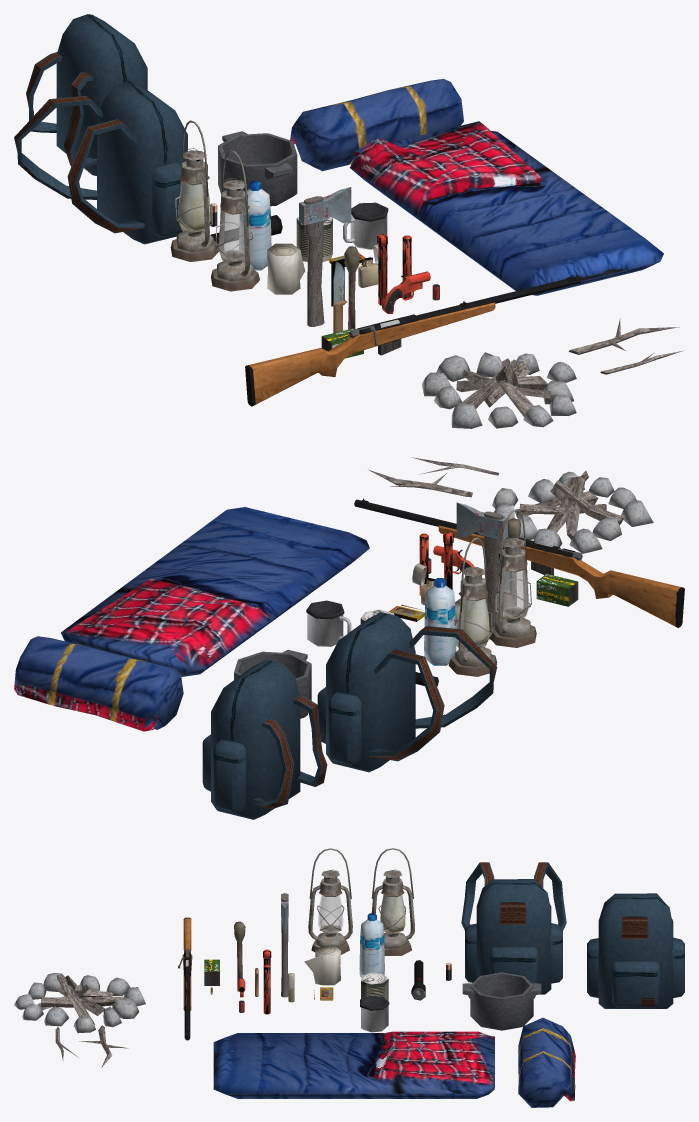
3 views of the same model, one above another, from view 1: azimuth 30°, elevation 25°; view 2: azimuth 150°, elevation 25°; view 3: azimuth 270°, elevation 25° (orthographic). The views are drawn at different scales.
Visible parts, largest first — view 1: sleeping_bag, Backpack, sleeping_bag_01, Backpack.001, bonfire, hunting_rifle, Casserole, Farol, Axe, Farol_G, Water, band (+7 smaller); view 2: sleeping_bag, Backpack, Backpack.001, sleeping_bag_01, bonfire, hunting_rifle, Farol, Farol_G, Axe, Water, Cup, Casserole (+3 smaller); view 3: sleeping_bag, Backpack, Backpack.001, bonfire, sleeping_bag_01, Casserole, Farol, Farol_G, Water, band, hunting_rifle, Cup (+6 smaller).
Boxes of the visible parts, <box> form: sleeping_bag: <box>350,121,663,295</box>; Backpack: <box>14,81,187,244</box>; sleeping_bag_01: <box>290,78,463,171</box>; Backpack.001: <box>26,14,147,175</box>; bonfire: <box>421,352,576,428</box>; hunting_rifle: <box>245,275,581,406</box>; Casserole: <box>218,131,297,206</box>; Farol: <box>170,148,218,261</box>; Axe: <box>299,187,351,326</box>; Farol_G: <box>211,178,259,291</box>; Water: <box>239,181,271,270</box>; band: <box>267,243,304,294</box>; sleeping_bag: <box>61,507,369,676</box>; Backpack: <box>317,612,497,772</box>; Backpack.001: <box>202,659,327,819</box>; sleeping_bag_01: <box>14,636,183,731</box>; bonfire: <box>492,471,653,553</box>; hunting_rifle: <box>354,498,684,627</box>; Farol: <box>448,567,497,676</box>; Farol_G: <box>489,538,536,647</box>; Axe: <box>456,502,507,639</box>; Water: <box>424,578,456,665</box>; Cup: <box>306,600,351,646</box>; Casserole: <box>234,649,311,718</box>; sleeping_bag: <box>213,1031,494,1098</box>; Backpack: <box>461,862,566,994</box>; Backpack.001: <box>587,893,684,1008</box>; bonfire: <box>14,973,145,1033</box>; sleeping_bag_01: <box>518,1017,575,1107</box>; Casserole: <box>462,972,541,1030</box>; Farol: <box>371,869,414,955</box>; Farol_G: <box>308,869,352,954</box>; Water: <box>359,913,384,976</box>; band: <box>304,945,340,985</box>; hunting_rifle: <box>182,917,192,1040</box>; Cup: <box>360,996,389,1032</box>.
Size of the model in its own units: 2.74 by 1.02 by 4.67.
Materials: 21 (20 with a texture image).
